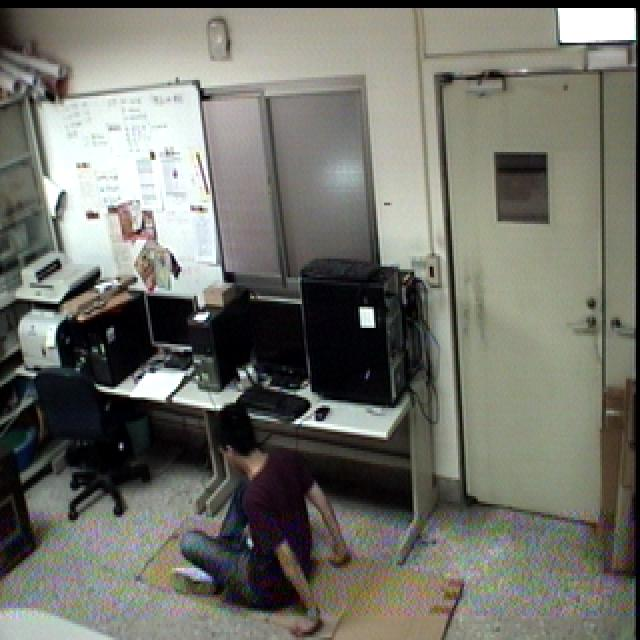sit: (162, 394, 360, 640)
